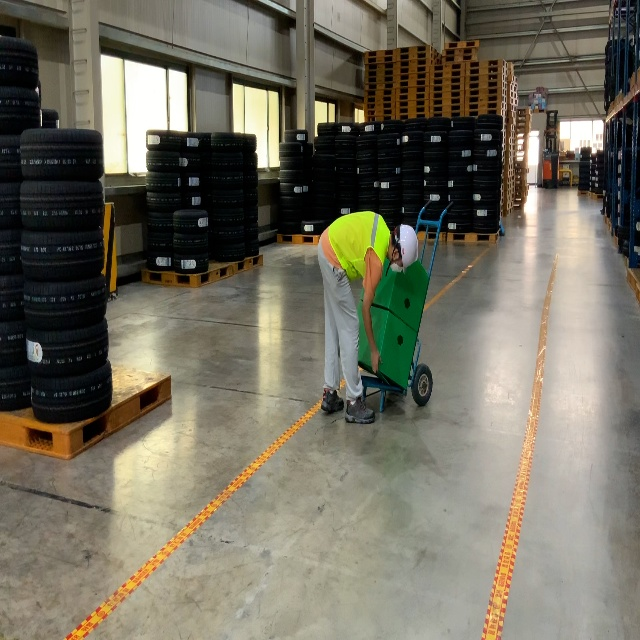Box: (357, 300, 418, 391), (360, 256, 430, 333)
Worker: (317, 210, 419, 425)
